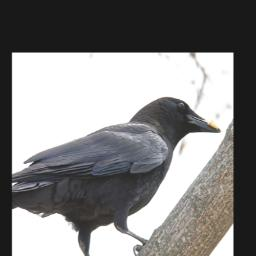Crow: (12, 97, 221, 256)
